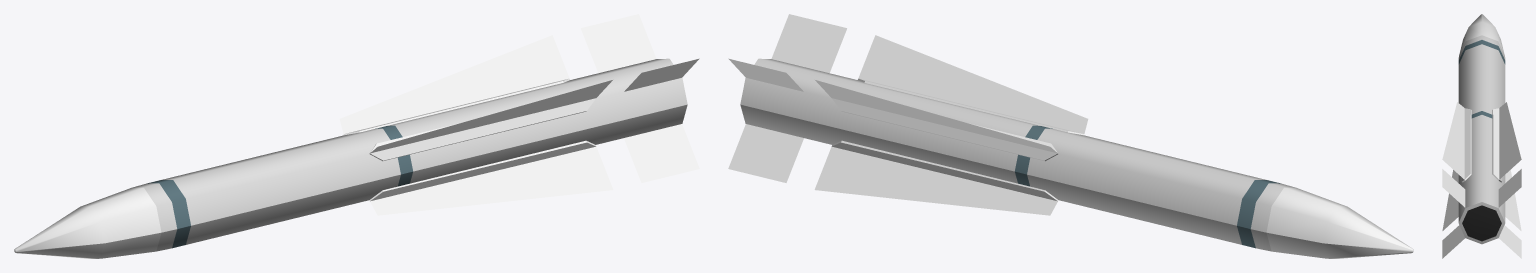
Rendered from AIM-54-Phoenix.fbx.
3 renders of one model, left to right at view 1: azimuth 30°, elevation 25°; view 2: azimuth 150°, elevation 25°; view 3: azimuth 270°, elevation 25°, orthographic. The views are drawn at different scales.
Visible parts, largest first — view 1: AIM-54 Phoenix.002; view 2: AIM-54 Phoenix.002; view 3: AIM-54 Phoenix.002.
Boxes of the visible parts, box(x1,y1,x2,y2) form: AIM-54 Phoenix.002: box(14, 14, 699, 258); AIM-54 Phoenix.002: box(728, 14, 1413, 258); AIM-54 Phoenix.002: box(1442, 14, 1521, 258).
Size of the model in its own units: 400 by 64.25 by 64.25.
